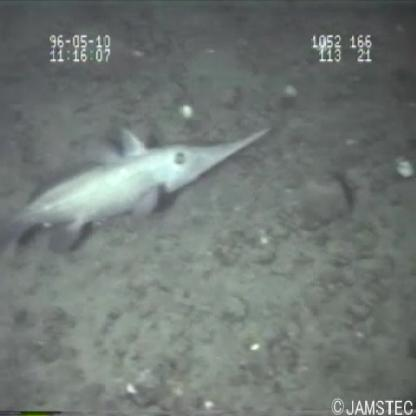Bio: (4, 115, 282, 259)
